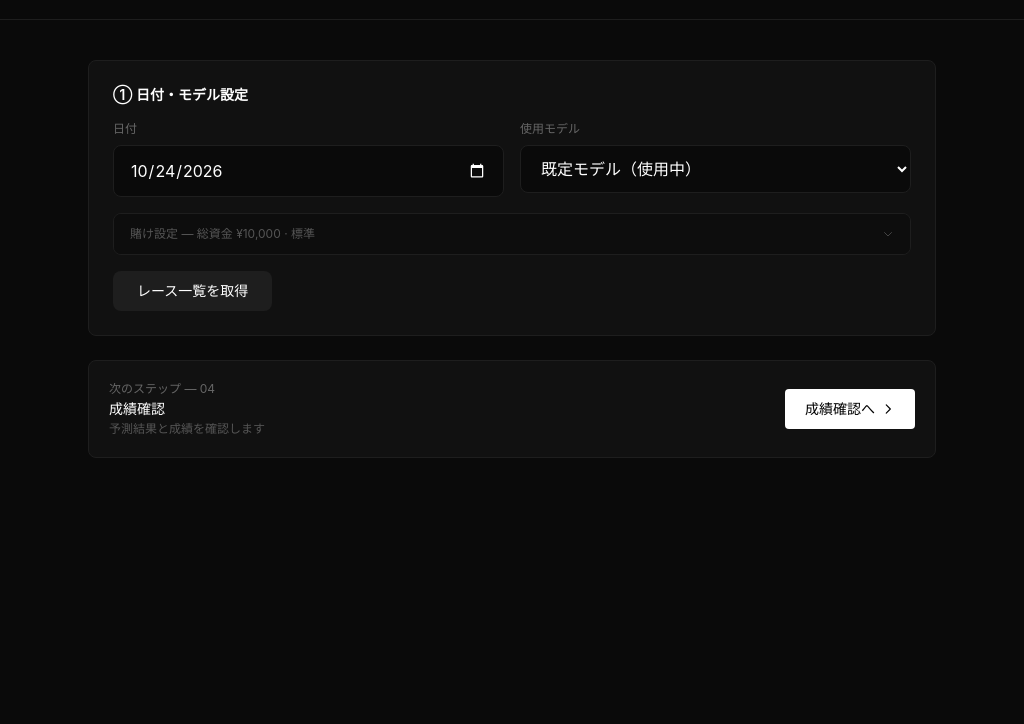
Test: parallel batch prediction UI › falls back safely when the health check is offline
Step 1. Click the button "レース一覧を取得" → (193, 291), box [113,271,272,311]
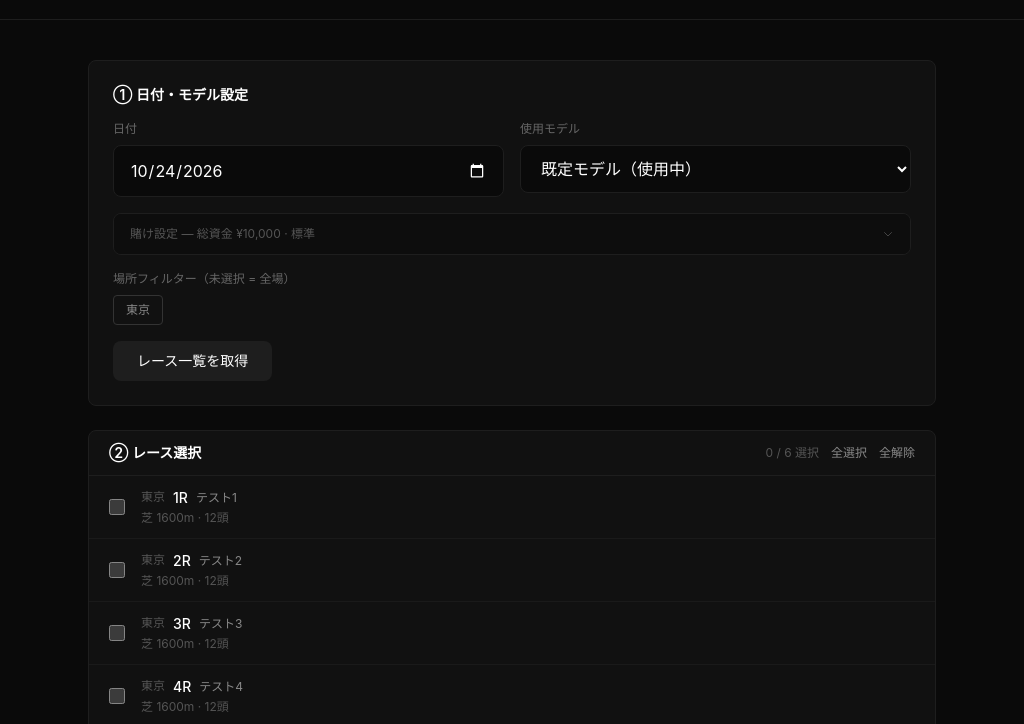
Step 2. Click the button "全選択" → (849, 453), box [831,445,867,461]
(page scrolled)
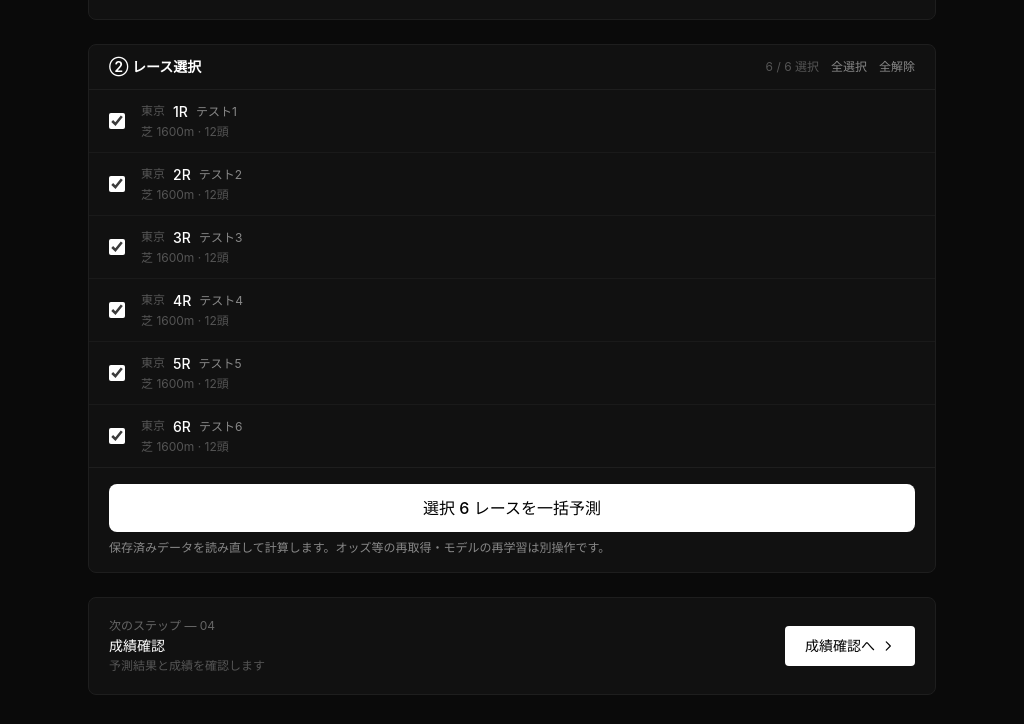
Step 3. Click the button "選択 6 レースを一括予測" → (512, 508), box [109,484,915,532]
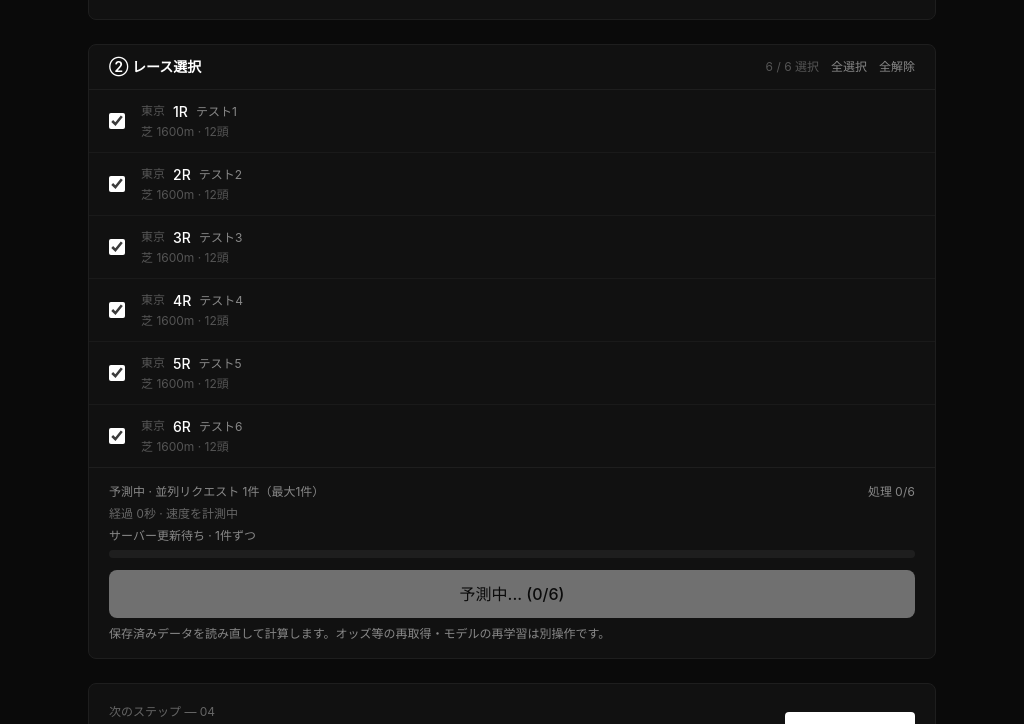
Check: the text "サーバー更新待ち · 1件ずつ" is shown, box [109,528,256,543]
